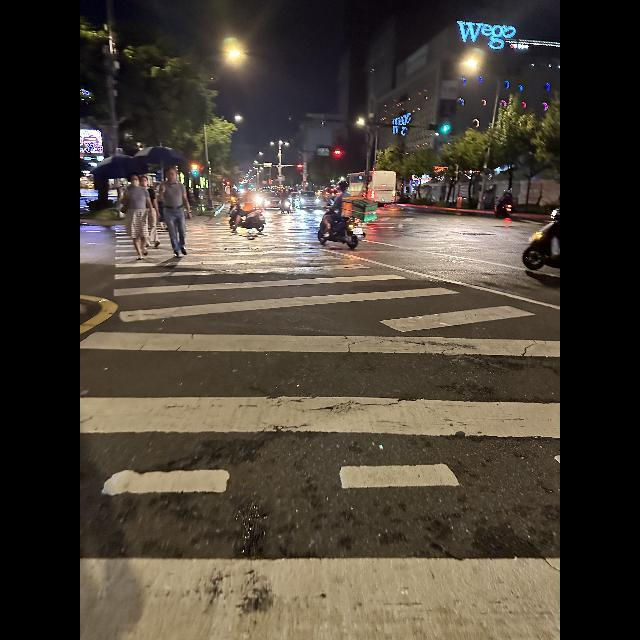sidewalk: (80, 220, 560, 640)
